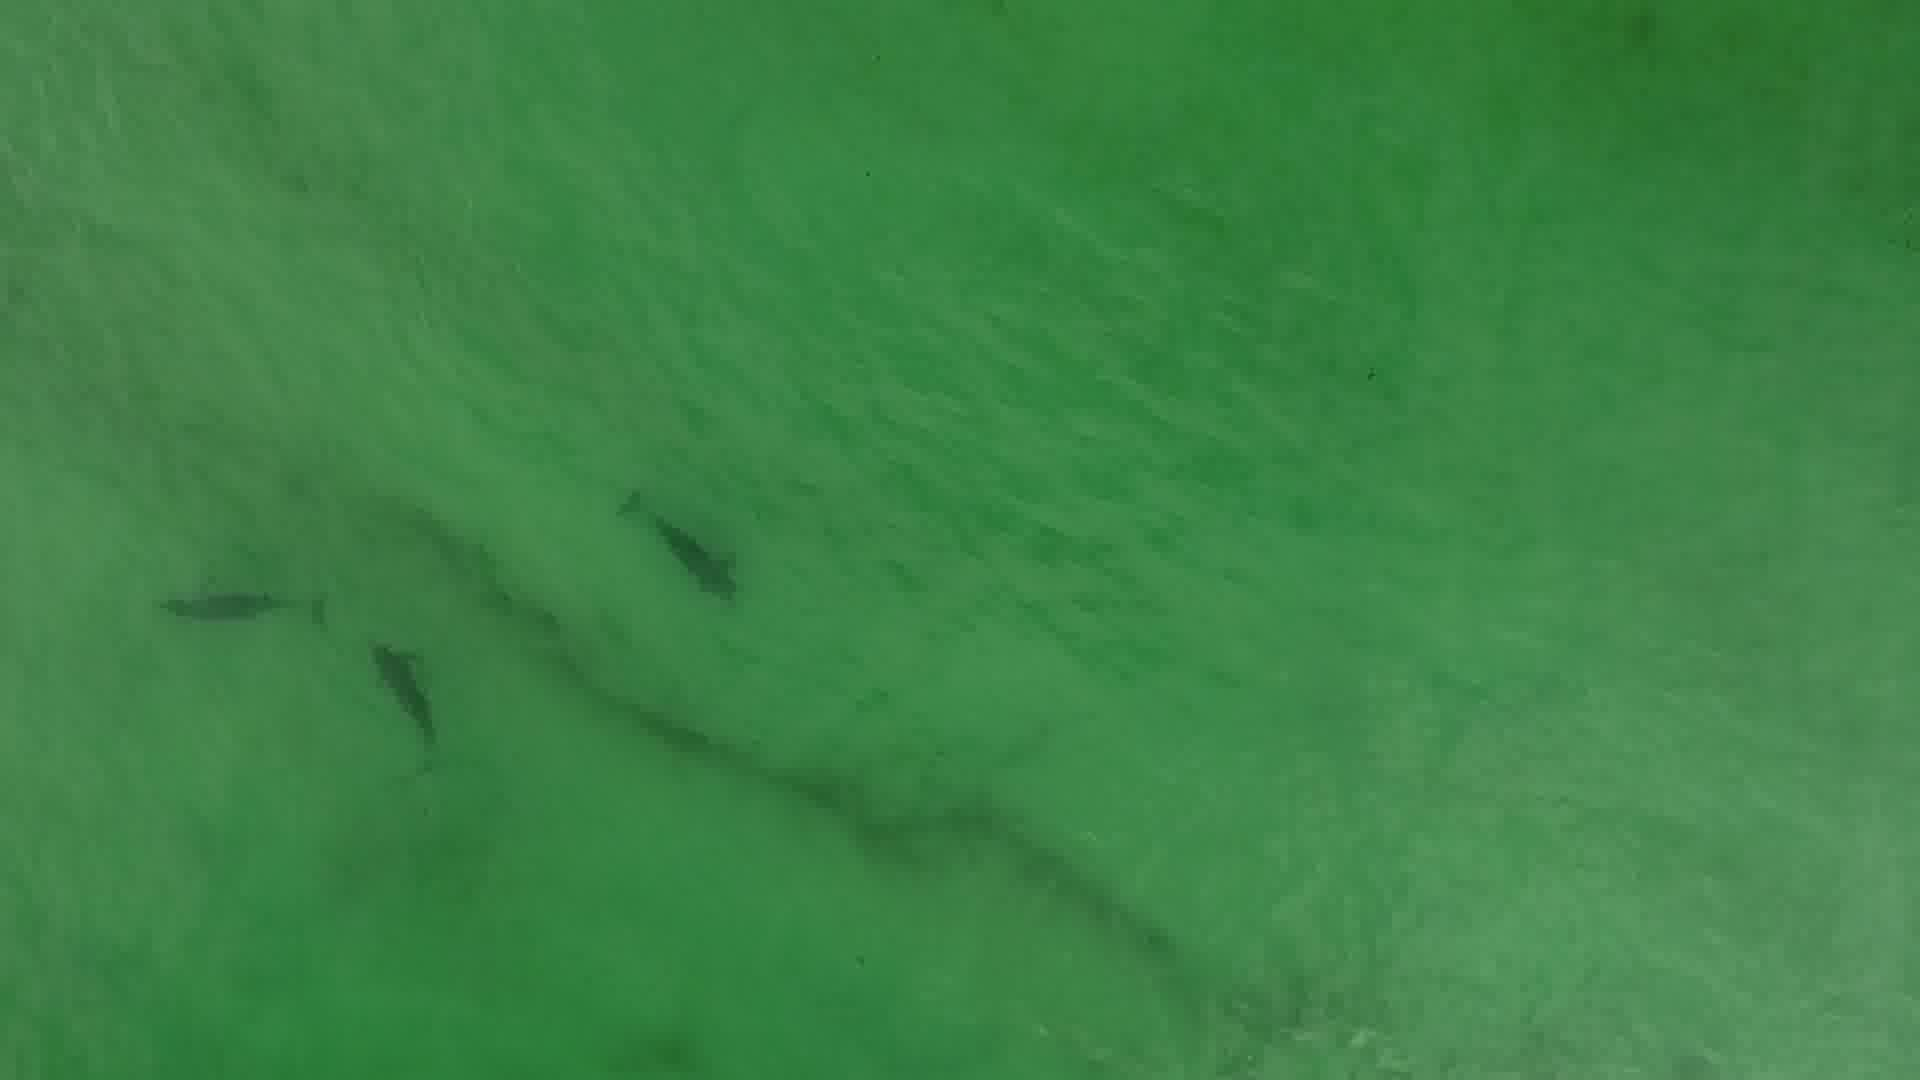dolphin: (579, 469, 764, 625), (131, 562, 357, 669), (338, 626, 467, 782)
